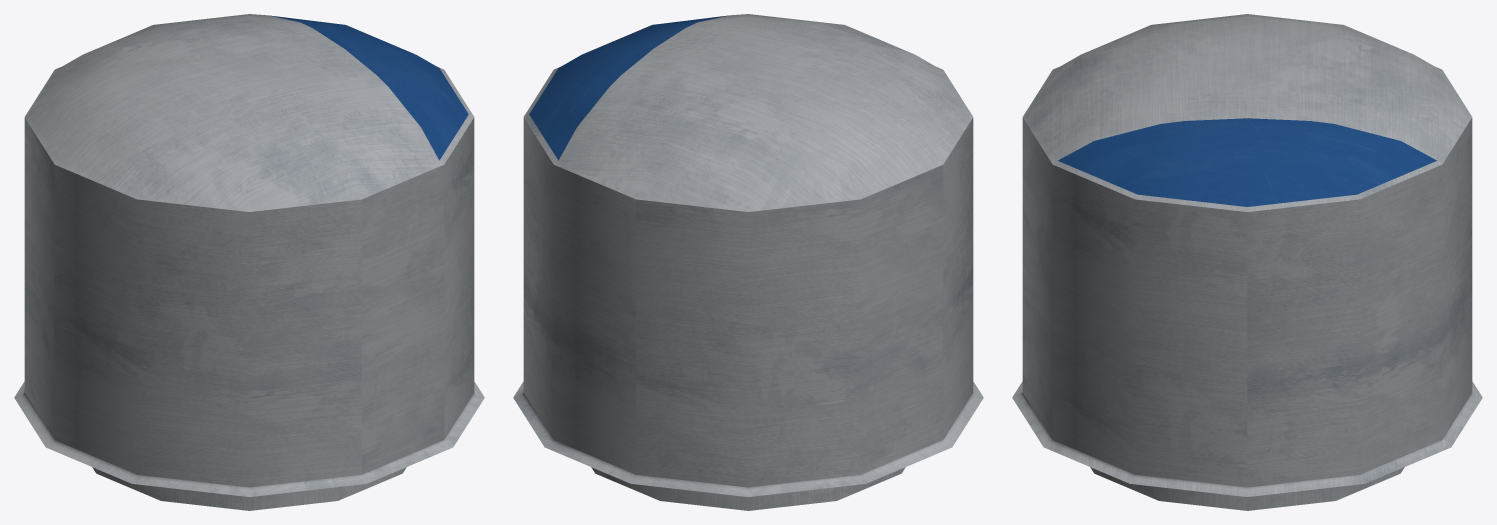
File: GPUCapacitorBig.fbx
The picture shows the model from 3 angles, left to right: view 1: azimuth 30°, elevation 25°; view 2: azimuth 150°, elevation 25°; view 3: azimuth 270°, elevation 25°; orthographic projection.
Parts seen in each view (by area): view 1: GPUCapacitorBig; view 2: GPUCapacitorBig; view 3: GPUCapacitorBig.
Part boxes in pixels (x1,y1,x2,y2): GPUCapacitorBig: [14, 14, 484, 510]; GPUCapacitorBig: [513, 14, 983, 510]; GPUCapacitorBig: [1012, 14, 1482, 510].
Bounding box in the file's own units: 11.27 × 9.75 × 11.27.
